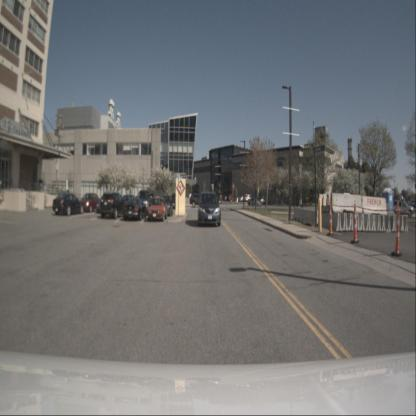movable_object-barrier: (302, 208, 319, 227), (328, 212, 342, 232), (340, 212, 354, 232), (334, 212, 348, 231), (316, 212, 330, 229), (354, 212, 365, 232), (293, 206, 305, 223), (360, 214, 371, 232), (371, 214, 382, 232), (366, 214, 377, 232), (382, 214, 391, 233), (376, 215, 386, 232), (399, 216, 409, 232), (387, 215, 396, 232), (396, 216, 404, 232)
movable_object-trafficcone: (392, 202, 402, 256), (351, 200, 359, 243), (327, 202, 334, 236)
vehicle-car: (198, 192, 221, 227), (52, 193, 84, 216), (101, 192, 128, 219), (122, 198, 146, 220), (147, 196, 168, 221), (96, 193, 118, 214), (78, 193, 102, 212), (119, 195, 140, 214), (136, 190, 154, 211), (392, 200, 414, 215), (157, 196, 173, 216), (190, 193, 208, 207), (247, 197, 262, 207), (169, 198, 177, 209), (407, 198, 415, 208), (227, 194, 237, 202), (238, 195, 247, 203), (259, 196, 267, 205), (244, 194, 253, 202), (223, 194, 232, 202)
